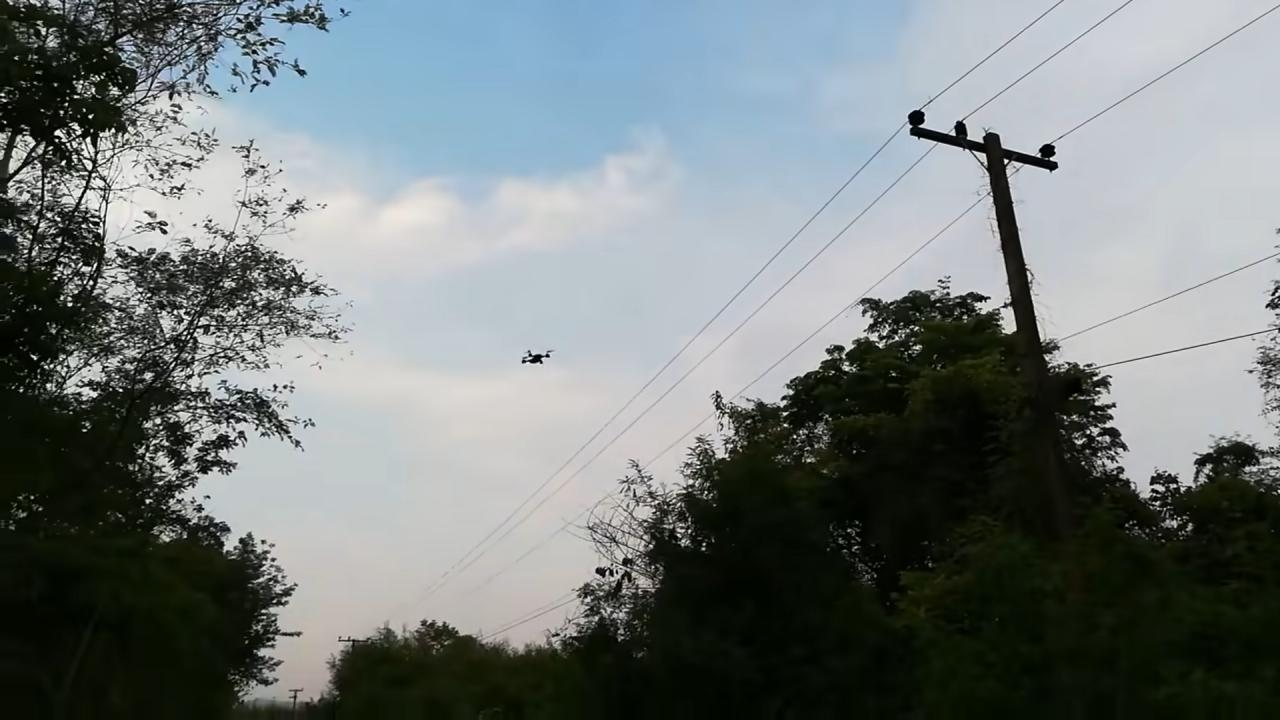Drone: (512, 342, 559, 372)
